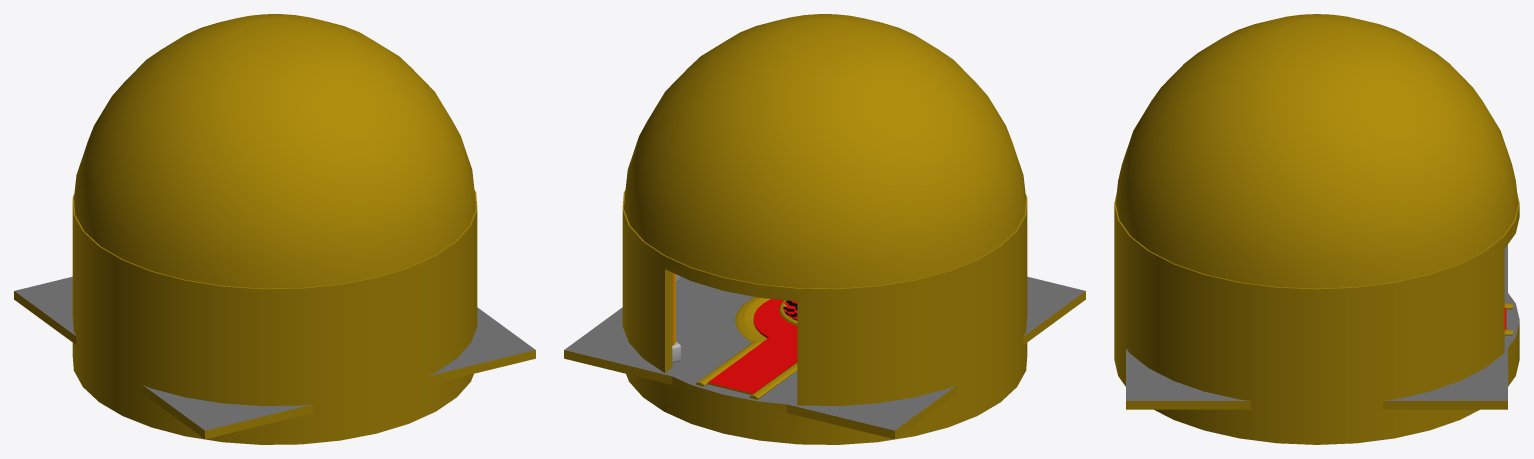
Rendered from salao.fbx.
The picture shows the model from 3 angles, left to right: view 1: azimuth 30°, elevation 25°; view 2: azimuth 150°, elevation 25°; view 3: azimuth 270°, elevation 25°; orthographic projection.
Visible parts, largest first — view 1: Cube; view 2: Cube; view 3: Cube.
Boxes of the visible parts, x1=… form: Cube: x1=14, y1=14, x2=535, y2=444; Cube: x1=564, y1=14, x2=1085, y2=444; Cube: x1=1114, y1=14, x2=1519, y2=444.
Size of the model in its own units: 8500 by 7550 by 8500.
